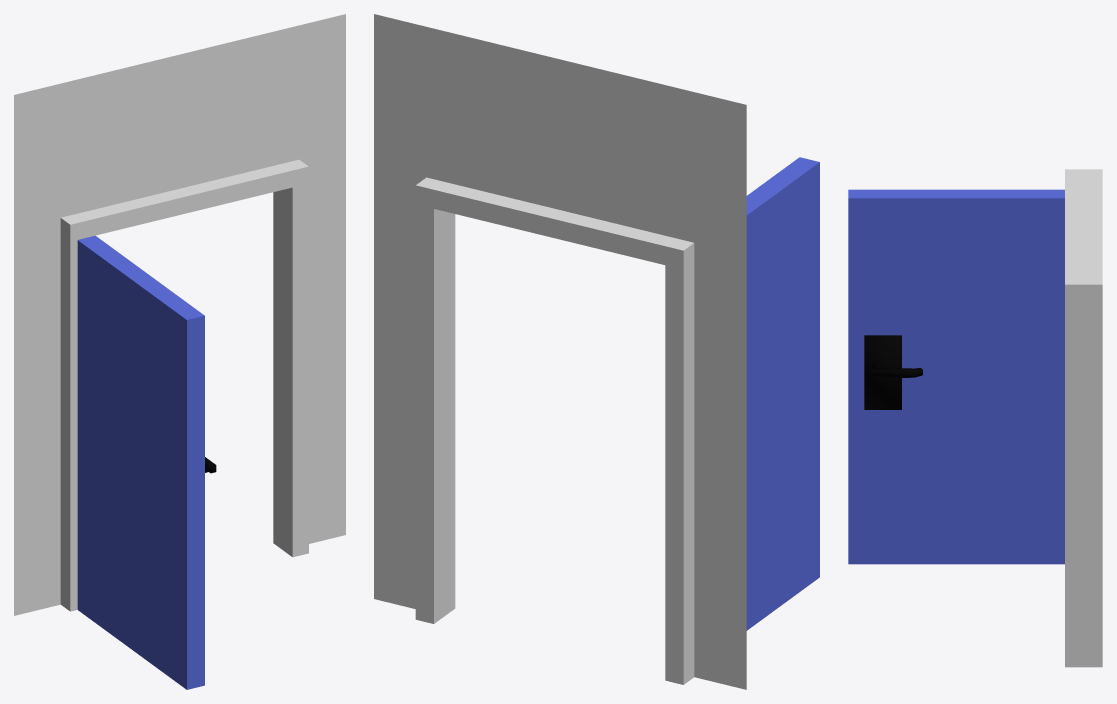
File: model_door_01_open.fbx
3 renders of one model, left to right at view 1: azimuth 30°, elevation 25°; view 2: azimuth 150°, elevation 25°; view 3: azimuth 270°, elevation 25°, orthographic. The views are drawn at different scales.
Parts seen in each view (by area): view 1: Plane.028; view 2: Plane.028; view 3: Plane.028.
Part boxes in pixels (x1=…): Plane.028: x1=14, y1=14, x2=345, y2=689; Plane.028: x1=374, y1=14, x2=819, y2=689; Plane.028: x1=848, y1=169, x2=1102, y2=667.
Bounding box in the file's own units: 200 × 300 × 134.
